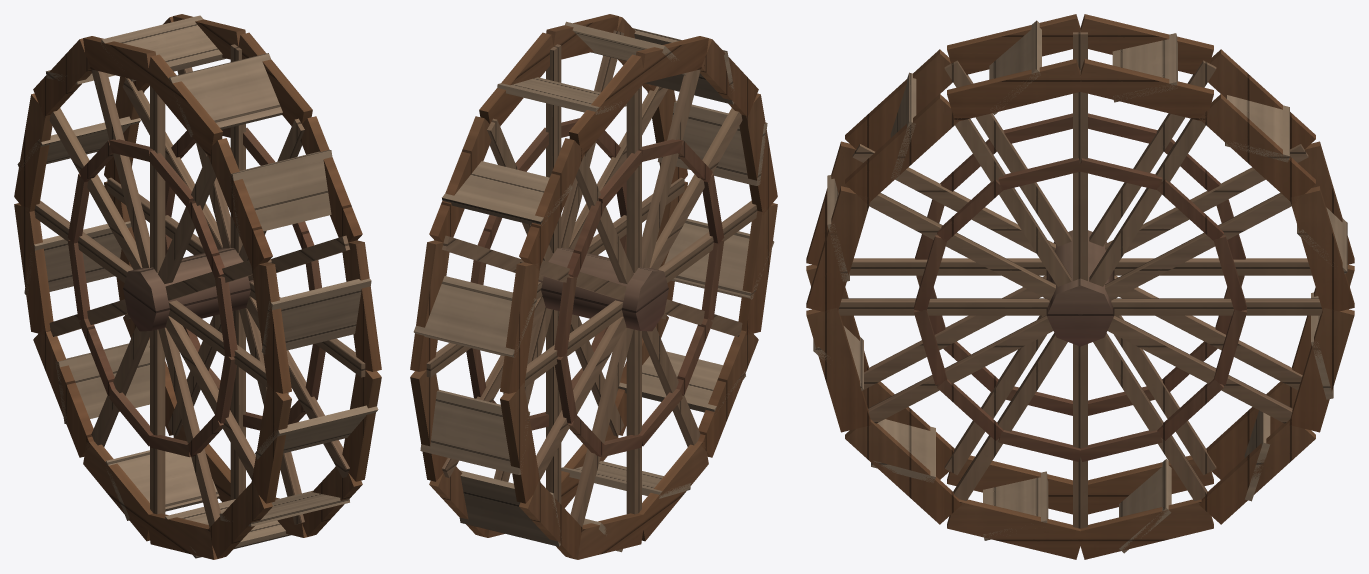
The model's file is roda-dagua.glb.
The picture shows the model from 3 angles, left to right: view 1: azimuth 30°, elevation 25°; view 2: azimuth 150°, elevation 25°; view 3: azimuth 270°, elevation 25°; orthographic projection.
Visible parts, largest first — view 1: roda-dagua; view 2: roda-dagua; view 3: roda-dagua.
Part boxes in pixels (box(x1,y1,x2,y2)): roda-dagua: box(14, 14, 381, 559); roda-dagua: box(410, 14, 777, 559); roda-dagua: box(806, 14, 1354, 559).
Bounding box in the file's own units: 1.3 × 5.19 × 5.19.
1 material, 1 textured.
